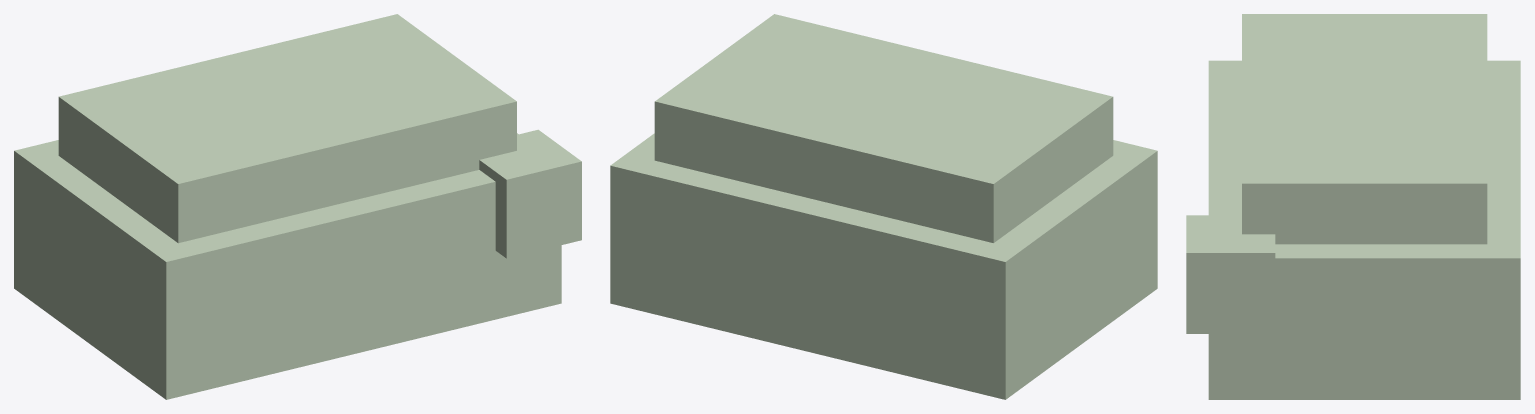
Rendered from product_steamed_fillet.glb.
3 renders of one model, left to right at view 1: azimuth 30°, elevation 25°; view 2: azimuth 150°, elevation 25°; view 3: azimuth 270°, elevation 25°, orthographic. The views are drawn at different scales.
Visible parts, largest first — view 1: product.steamed_fillet; view 2: product.steamed_fillet; view 3: product.steamed_fillet.
Boxes of the visible parts, x1=… form: product.steamed_fillet: x1=14, y1=14, x2=581, y2=399; product.steamed_fillet: x1=610, y1=14, x2=1157, y2=399; product.steamed_fillet: x1=1186, y1=14, x2=1520, y2=399.
Size of the model in its own units: 0.24 by 0.1116 by 0.1674.
